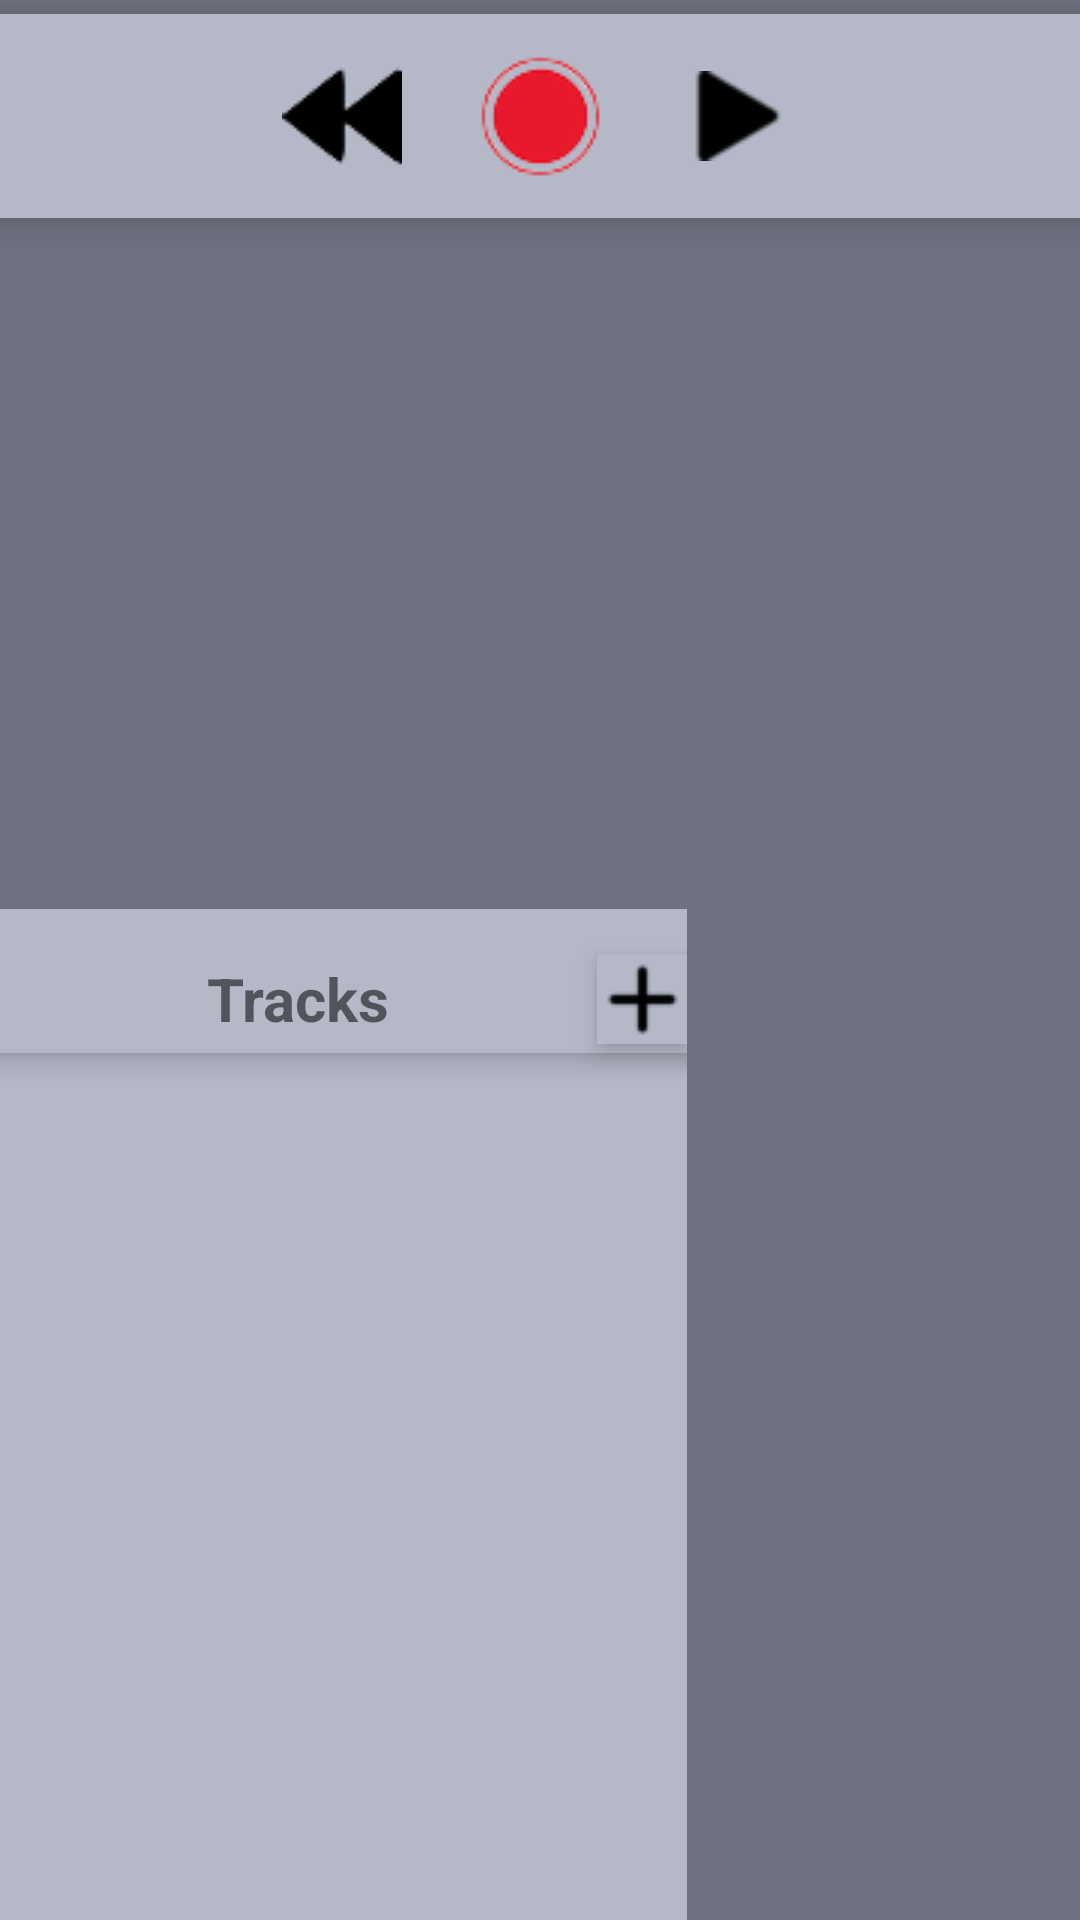

Named icons in this screenshot (1080 × 1920) and their centers, (x,y):
play: (738,116)
plus: (642,999)
record: (540,116)
rewind: (342,116)
